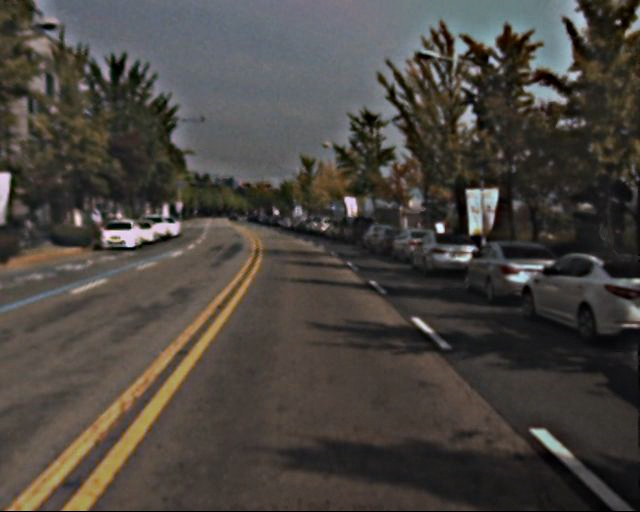person: (594, 221, 621, 287)
